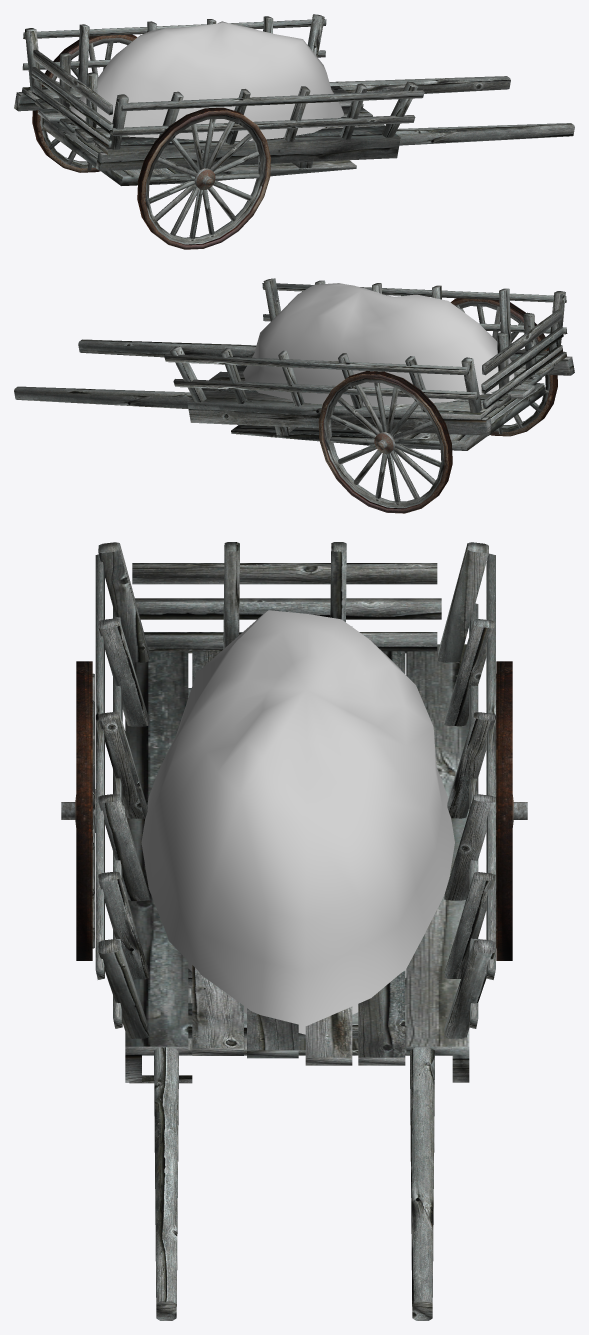
The model's file is StrawCart.fbx.
3 renders of one model, top to bottom at view 1: azimuth 30°, elevation 25°; view 2: azimuth 150°, elevation 25°; view 3: azimuth 270°, elevation 25°, orthographic. The views are drawn at different scales.
Parts seen in each view (by area): view 1: StrawCart; view 2: StrawCart; view 3: StrawCart.
Part boxes in pixels (x1,y1,x2,y2): StrawCart: (14, 14, 574, 249); StrawCart: (14, 278, 574, 513); StrawCart: (61, 542, 527, 1320).
Size of the model in its own units: 440 by 145 by 182.
